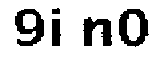0: (118, 5, 151, 50)
9: (7, 6, 46, 53)
i: (48, 5, 66, 49)
n: (76, 9, 115, 52)
